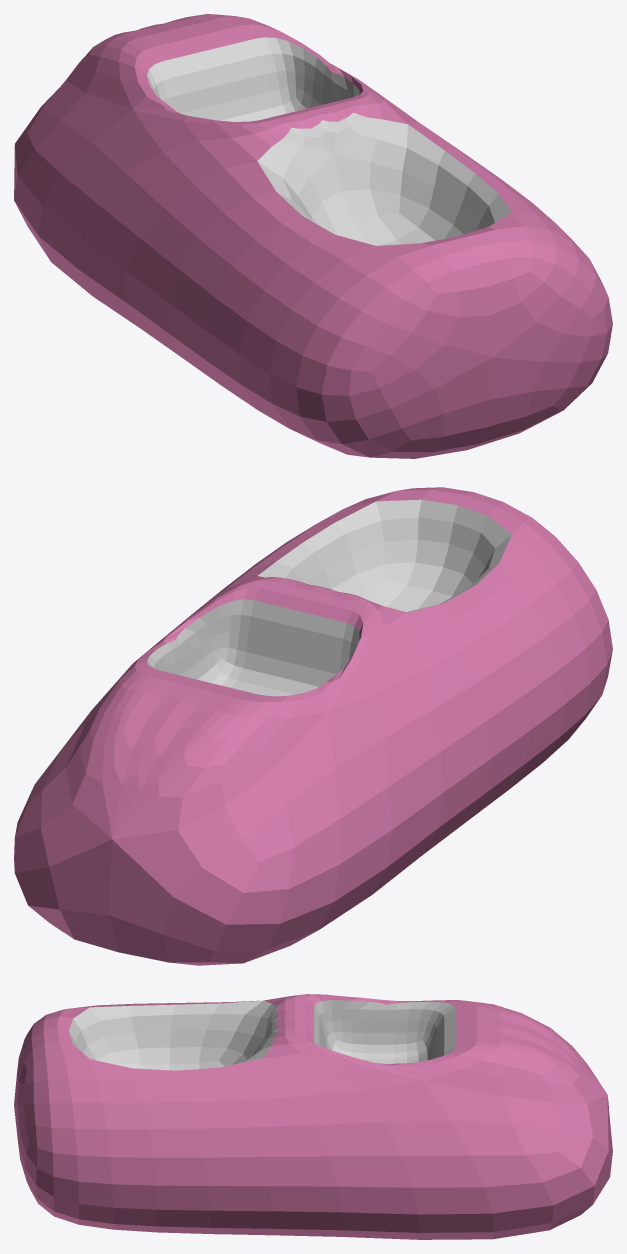
Rendered from shoes.fbx.
The picture shows the model from 3 angles, top to bottom: view 1: azimuth 30°, elevation 25°; view 2: azimuth 150°, elevation 25°; view 3: azimuth 270°, elevation 25°; orthographic projection. The views are drawn at different scales.
Parts seen in each view (by area): view 1: Cylinder; view 2: Cylinder; view 3: Cylinder.
Boxes of the visible parts, left/top/right/bottom form: Cylinder: left=14, top=14, right=612, bottom=458; Cylinder: left=14, top=487, right=612, bottom=965; Cylinder: left=14, top=994, right=612, bottom=1239.
Size of the model in its own units: 151 by 112 by 307.
